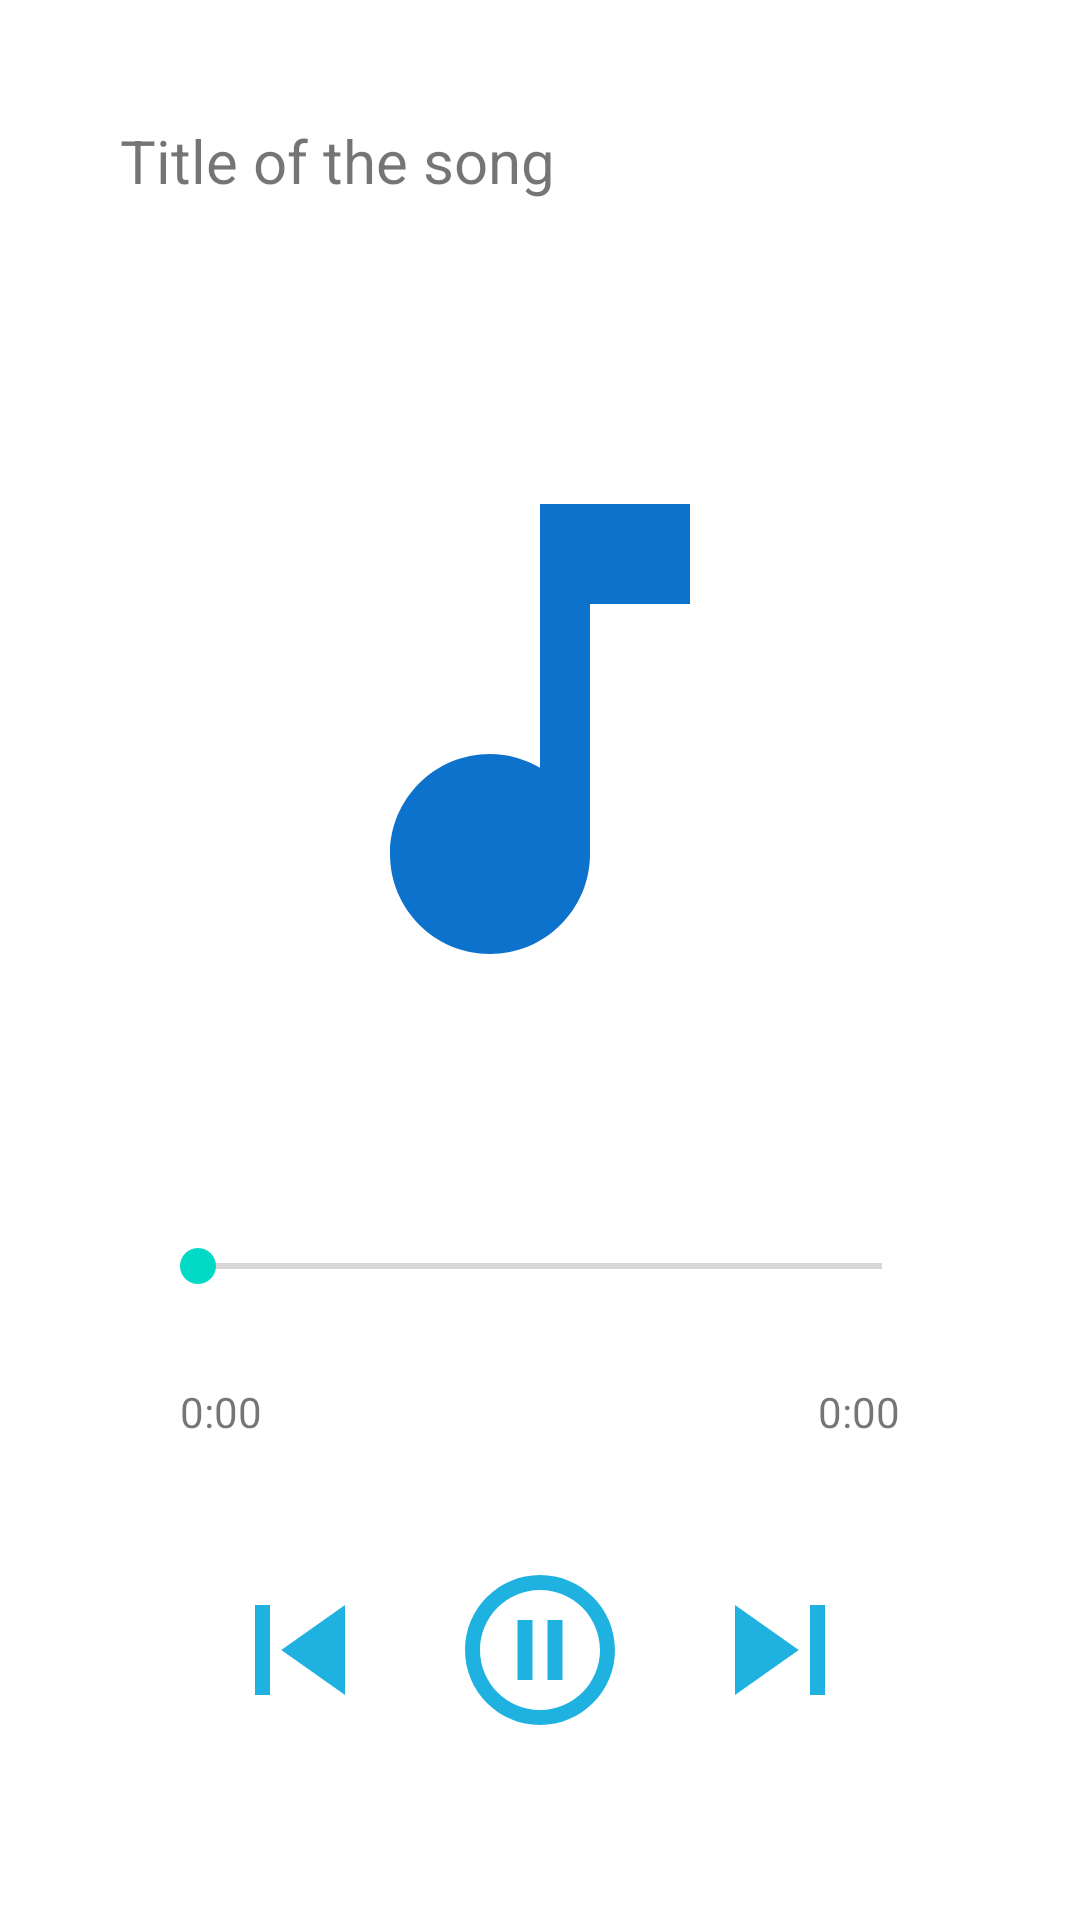

Screen size 1080 x 1920. Icon name, then its box in pixels as detection(x1, y1, x2, y2):
pause: detection(465, 1575, 615, 1725)
skipnext: detection(735, 1605, 825, 1695)
skipprevious: detection(255, 1605, 345, 1695)
